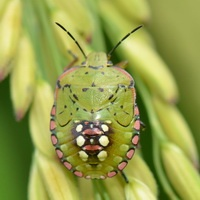insect: (50, 22, 141, 181)
